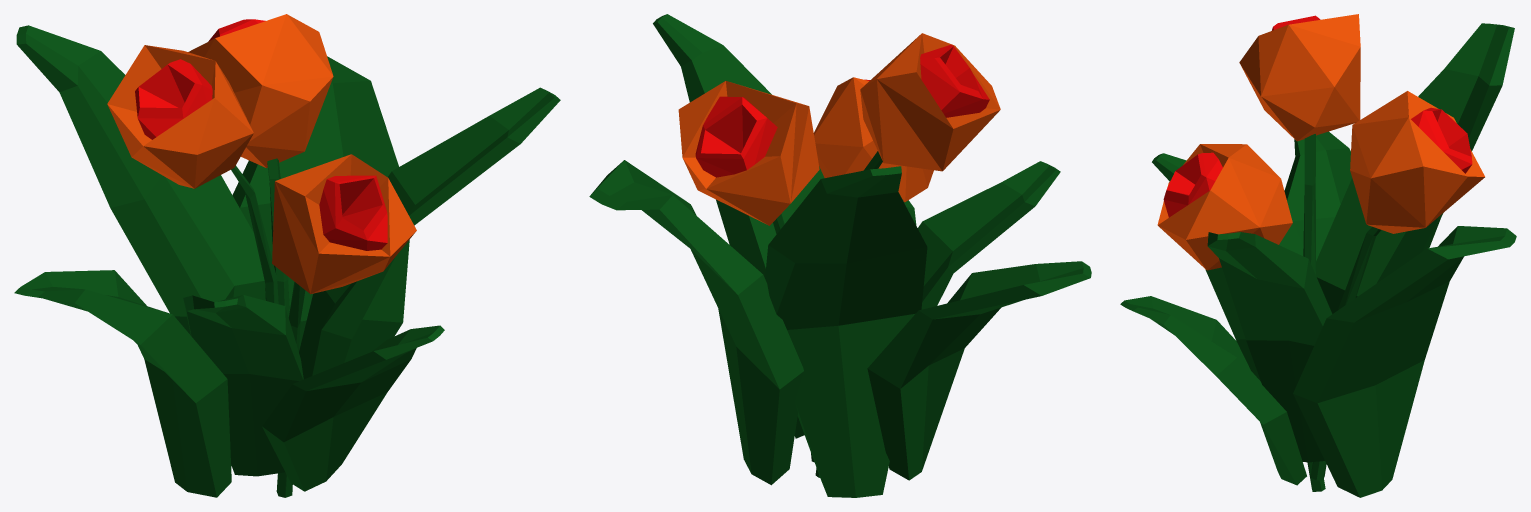
Rendered from Flowers_Orange_flat.gltf.
3 renders of one model, left to right at view 1: azimuth 30°, elevation 25°; view 2: azimuth 150°, elevation 25°; view 3: azimuth 270°, elevation 25°, orthographic. The views are drawn at different scales.
Visible parts, largest first — view 1: Flowers_Orange_flat; view 2: Flowers_Orange_flat; view 3: Flowers_Orange_flat.
Boxes of the visible parts, bbox=[...] form: Flowers_Orange_flat: bbox=[14, 14, 560, 497]; Flowers_Orange_flat: bbox=[589, 14, 1091, 497]; Flowers_Orange_flat: bbox=[1120, 14, 1516, 497].
Size of the model in its own units: 1.94 by 1.75 by 1.47.
Materials: 3 (3 with a texture image).
